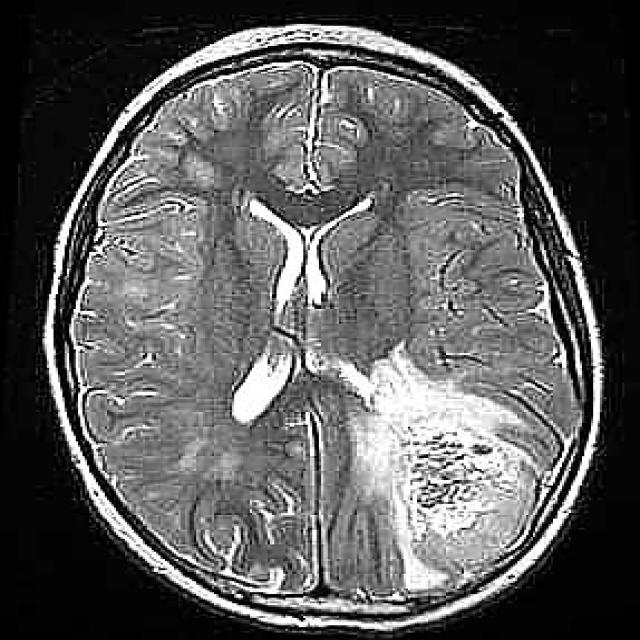Tumor-Cell: (288, 332, 542, 578)
